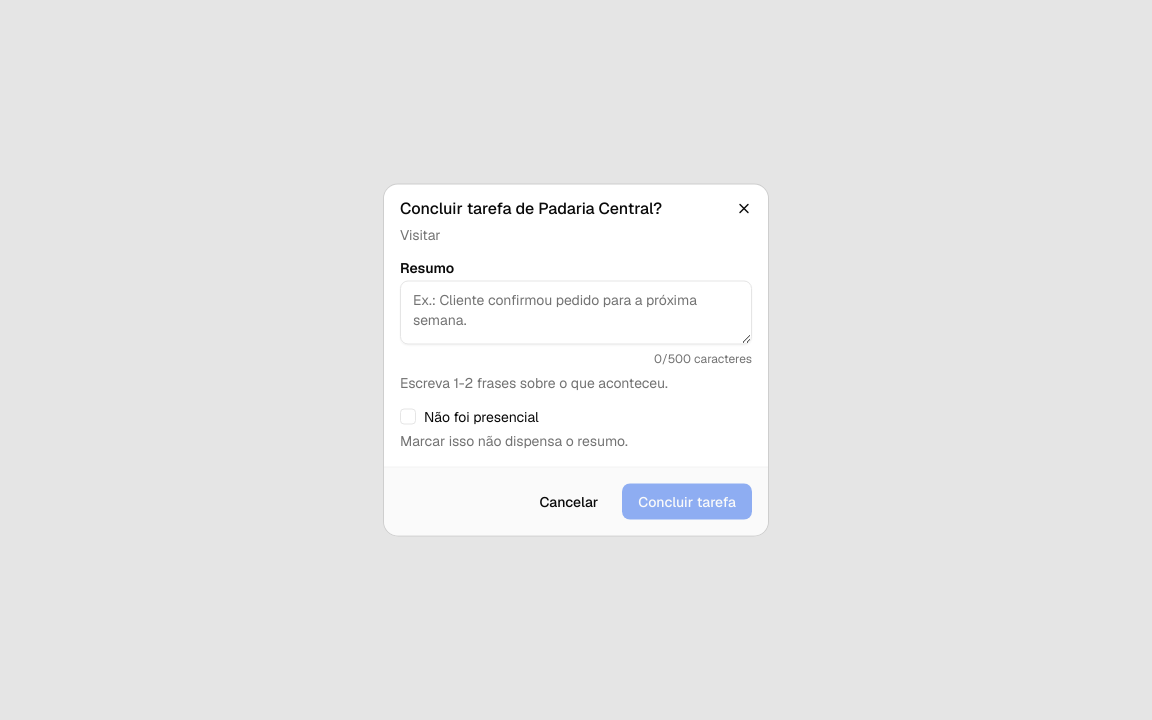
Test case: ConcluirItemDialog (CONC-01/VIS-03) › desabilitado: começa desabilitado, continua com 9 caracteres, habilita com 10
The width and height of the screenshot is (1152, 720).
Expected: the button "Concluir tarefa" is disabled, x1=622 y1=484 x2=752 y2=520
Type "123456789" into the text box at (576,312), box x1=400 y1=280 x2=752 y2=344
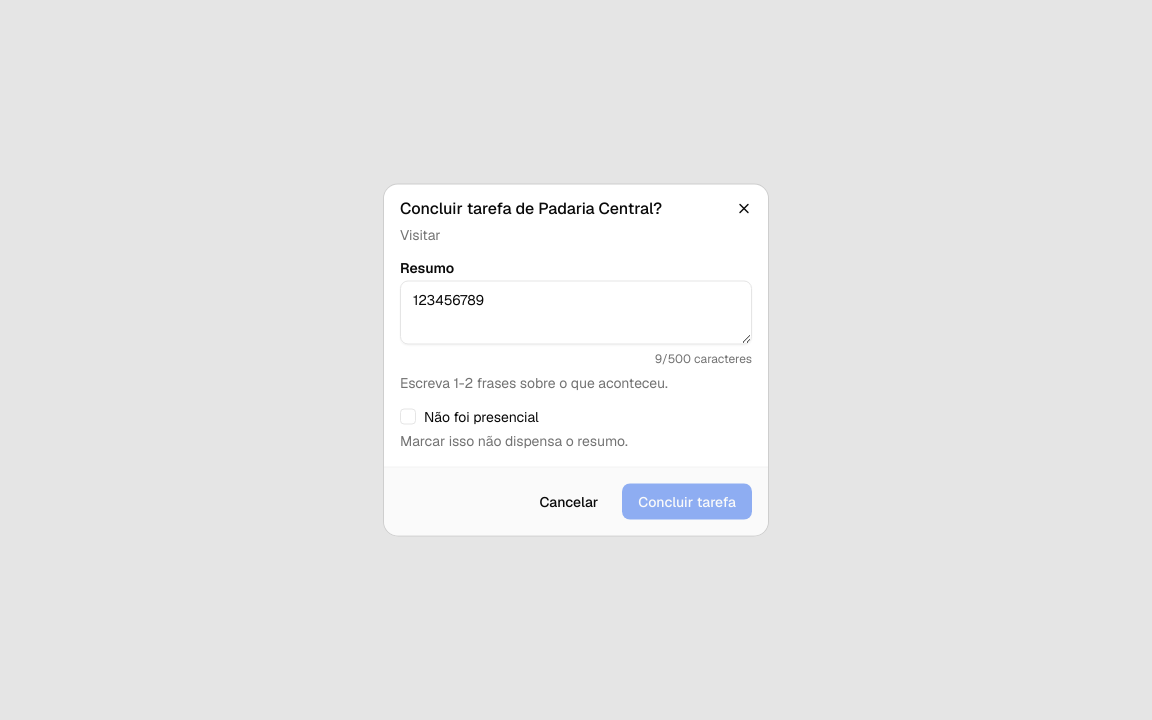
Expected: the button "Concluir tarefa" is disabled, x1=622 y1=484 x2=752 y2=520
Replace the text in the text box with "1234567890" at (576,312), box x1=400 y1=280 x2=752 y2=344
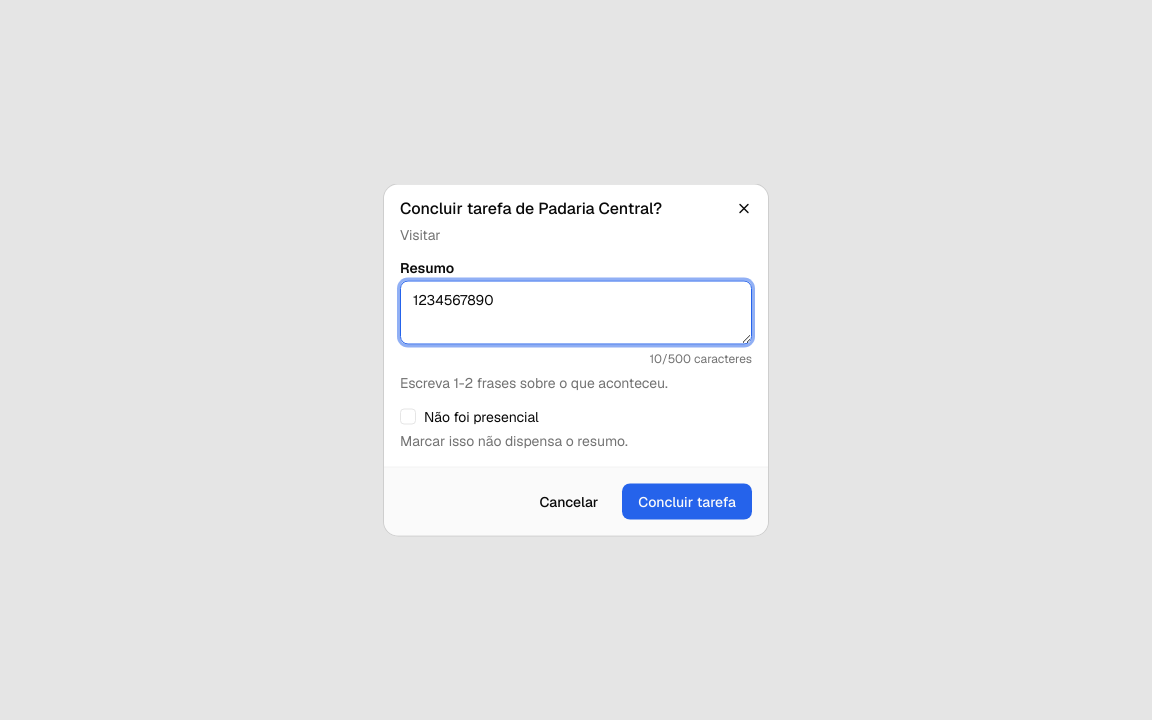
Expected: the button "Concluir tarefa" is enabled, x1=622 y1=484 x2=752 y2=520
